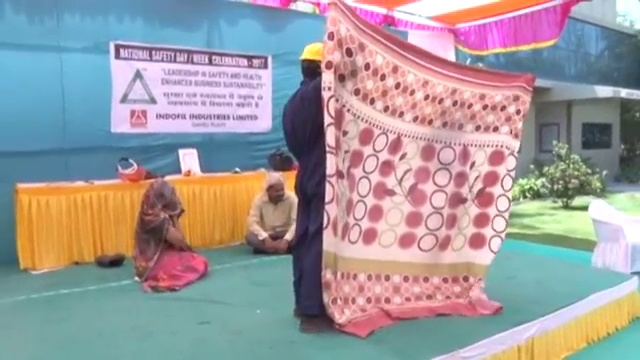helmet: (296, 41, 327, 61)
helmet_off: (147, 179, 176, 210), (265, 173, 286, 205)
helmet_on: (295, 42, 325, 84)
person: (282, 39, 334, 335), (131, 177, 206, 294), (244, 168, 297, 254)
